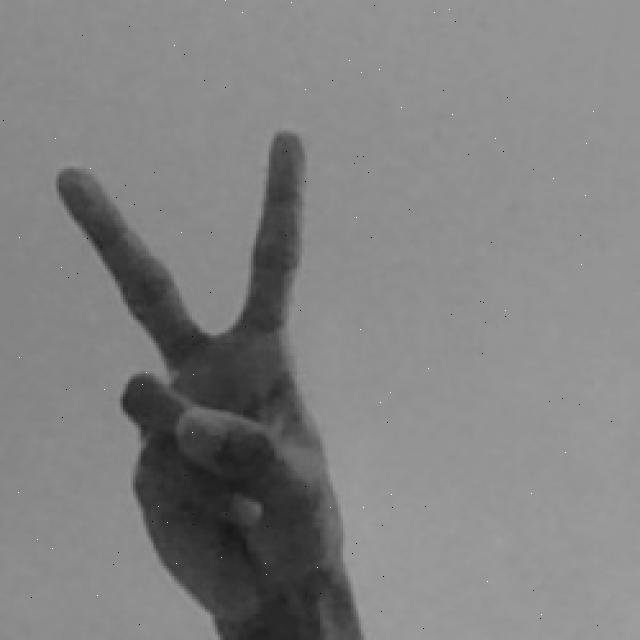V: (55, 123, 377, 640)
